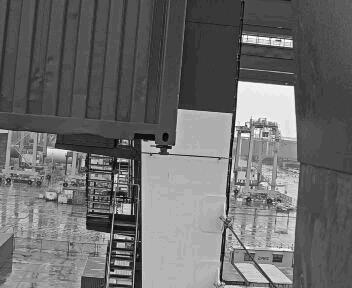twist_lock_1: (155, 142, 176, 160)
